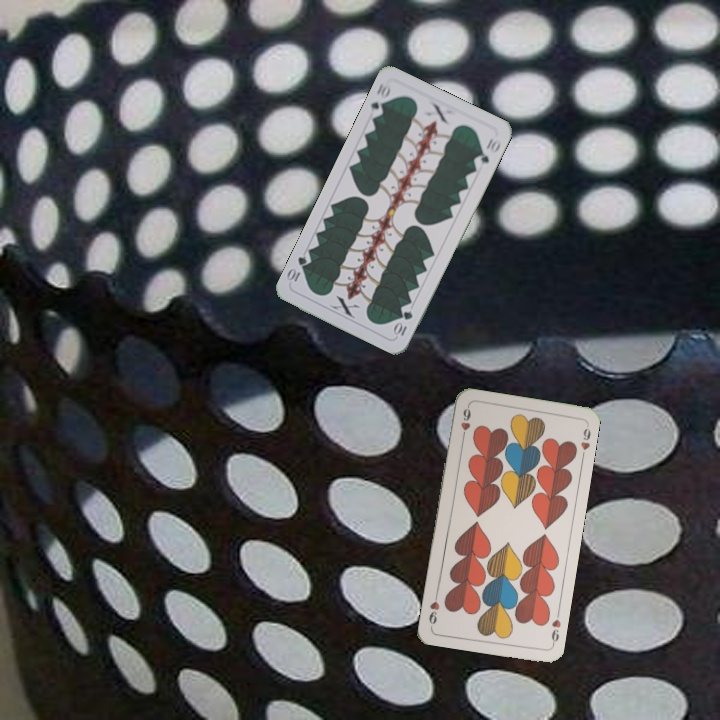G10: (367, 79, 393, 120), (390, 306, 415, 338)
H9: (457, 403, 473, 443), (547, 615, 564, 648)
